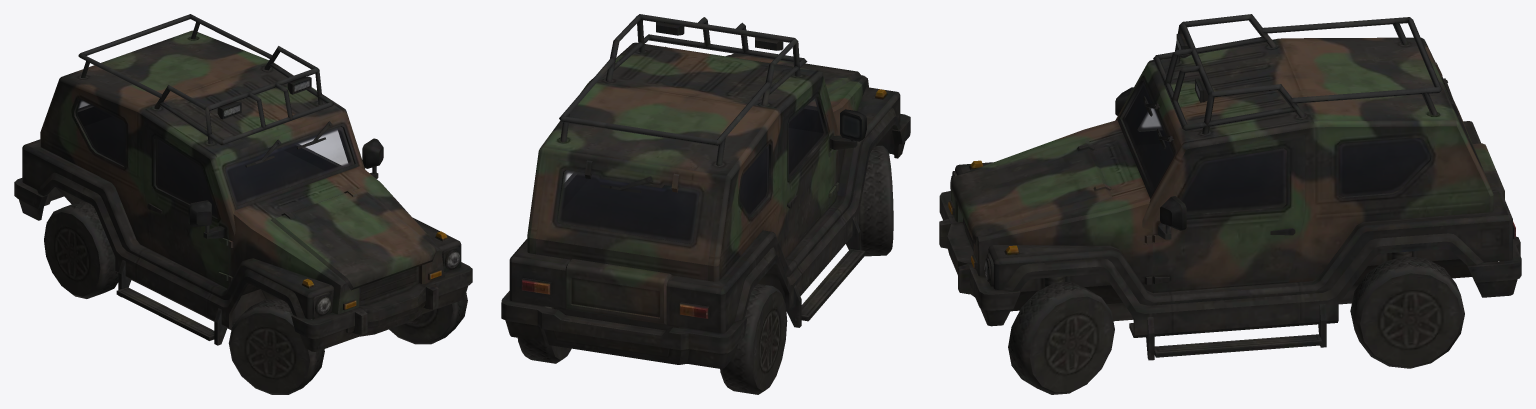
Rendered from zet-jeep-coupe-france-camo-84185d.glb.
The picture shows the model from 3 angles, left to right: view 1: azimuth 30°, elevation 25°; view 2: azimuth 150°, elevation 25°; view 3: azimuth 270°, elevation 25°; orthographic projection. The views are drawn at different scales.
Parts seen in each view (by area): view 1: body, wheel-front-right, wheel-back-right, wheel-front-left; view 2: body, wheel-back-right, wheel-front-right, wheel-back-left; view 3: body, wheel-back-left, wheel-front-left.
Part boxes in pixels (box(x1,y1,x2,y2)): body: box(14, 14, 472, 351); wheel-front-right: box(228, 299, 324, 394); wheel-back-right: box(44, 201, 118, 298); wheel-front-left: box(389, 272, 467, 344); body: box(501, 14, 910, 368); wheel-back-right: box(720, 283, 787, 394); wheel-front-right: box(859, 145, 893, 256); wheel-back-left: box(517, 306, 571, 363); body: box(939, 14, 1521, 360); wheel-back-left: box(1350, 256, 1464, 368); wheel-front-left: box(1008, 281, 1114, 394).
Bounding box in the file's own units: 2.66 × 2.31 × 4.39.
Materials: 3 (2 with a texture image).
